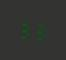three: (32, 19, 44, 40), (19, 19, 31, 39)
